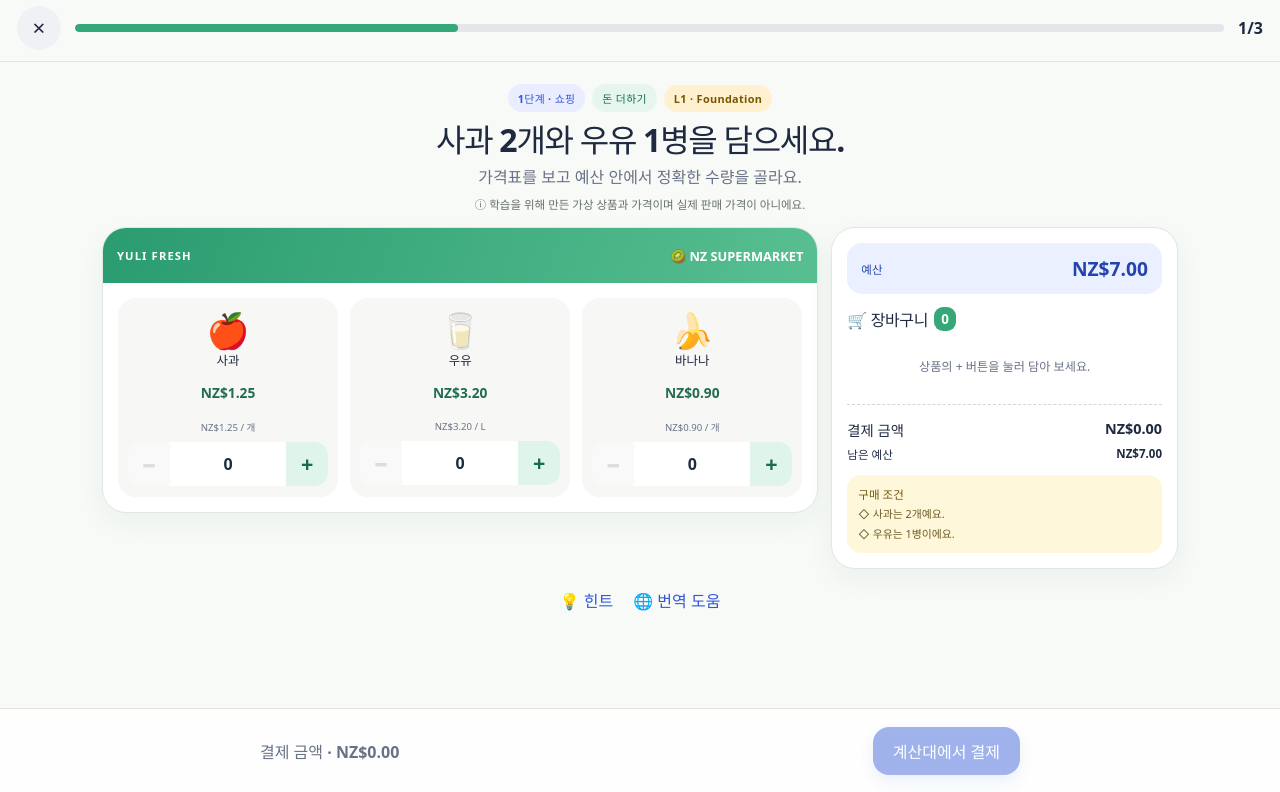
Test: ShoppingMission › marks only post-error guided attempts as supported
This screenshot has width=1280, height=792.
Click the button named "사과 추가": (307, 464) x1=286 y1=442 x2=328 y2=486
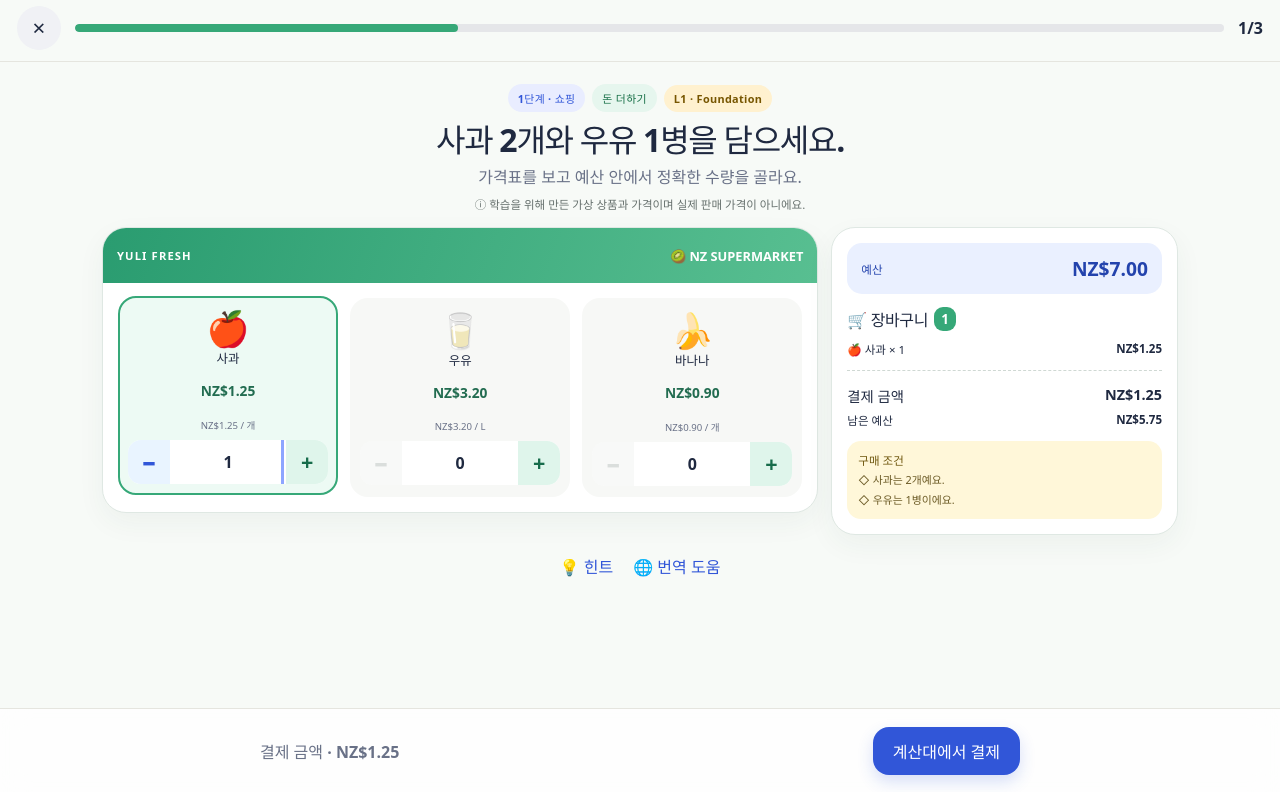
Click the button "계산대에서 결제": (946, 750) x1=873 y1=726 x2=1020 y2=774
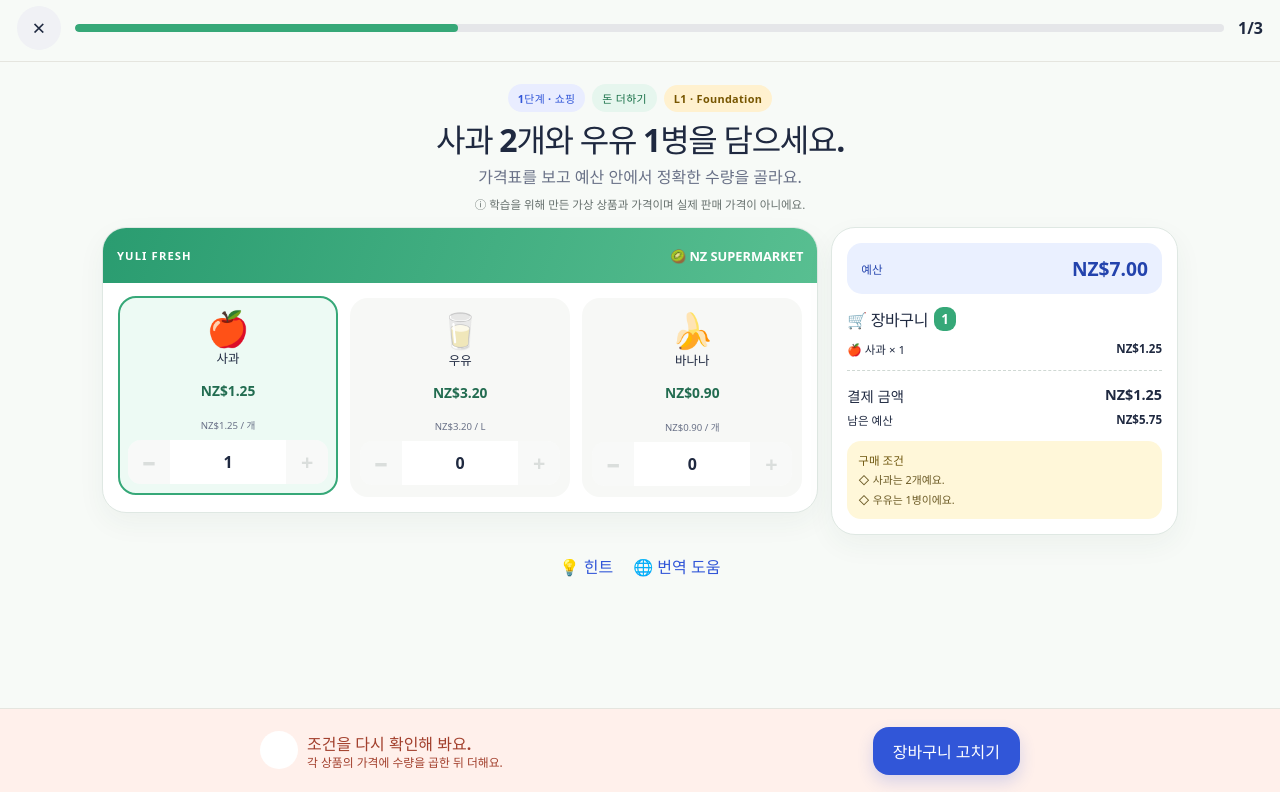
Click the button "장바구니 고치기": (946, 750) x1=873 y1=726 x2=1020 y2=774
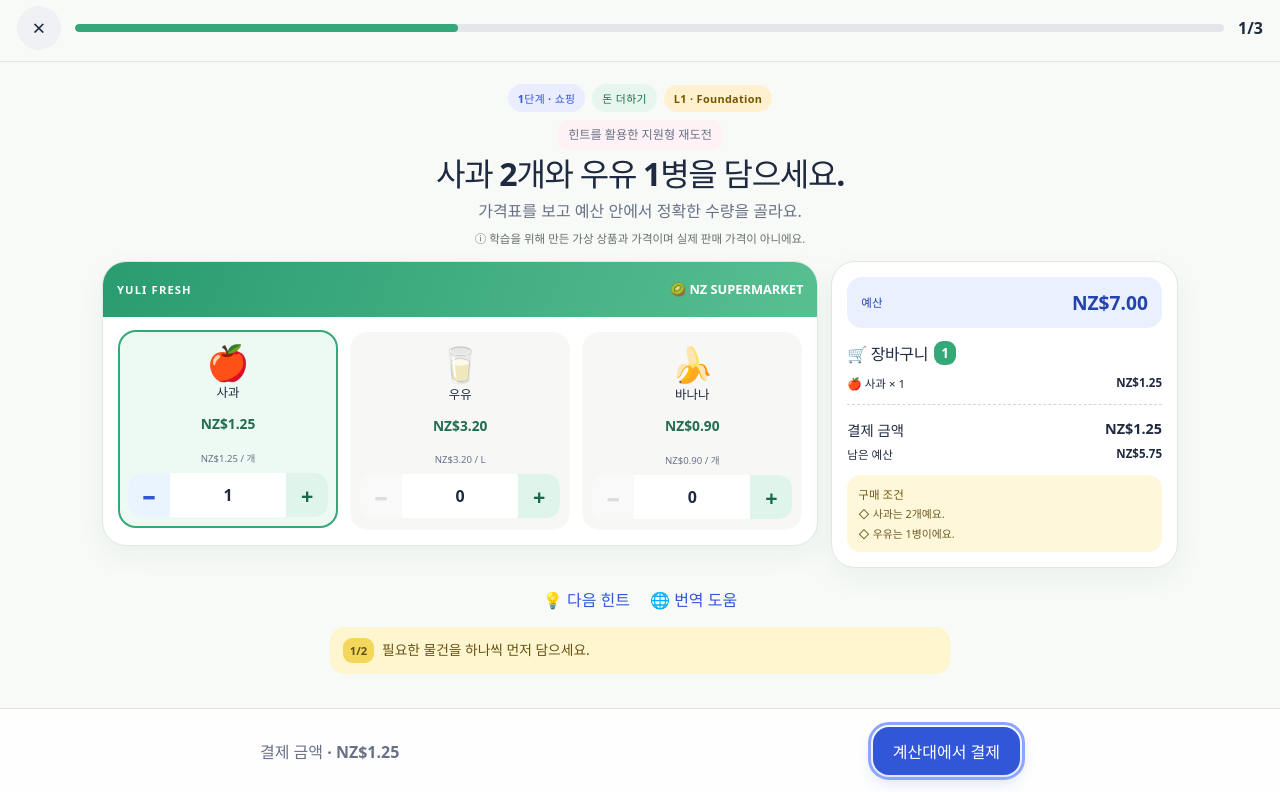
Expected: the text "힌트를 활용한 지원형 재도전" is shown, x1=558 y1=120 x2=722 y2=150
Click the button named "사과 추가": (307, 496) x1=286 y1=474 x2=328 y2=518
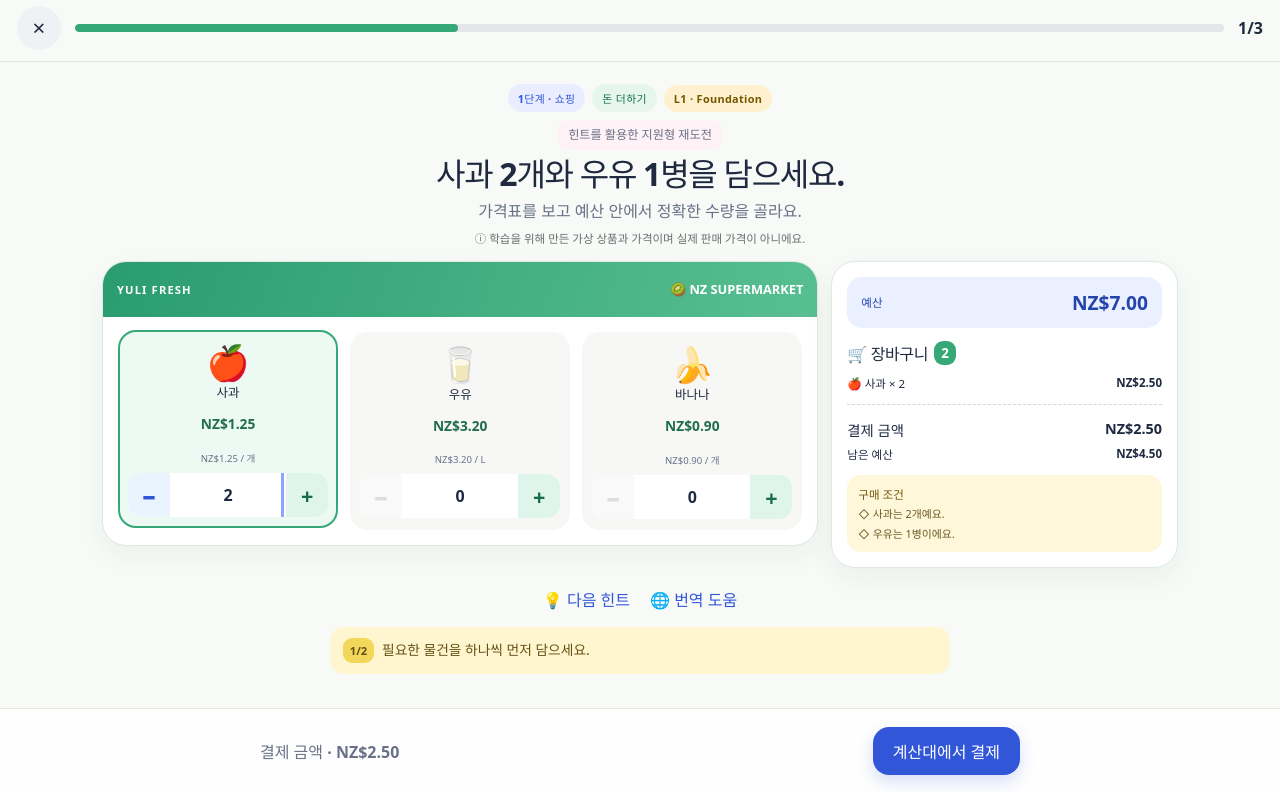
Click the button named "우유 추가": (539, 496) x1=518 y1=474 x2=560 y2=518
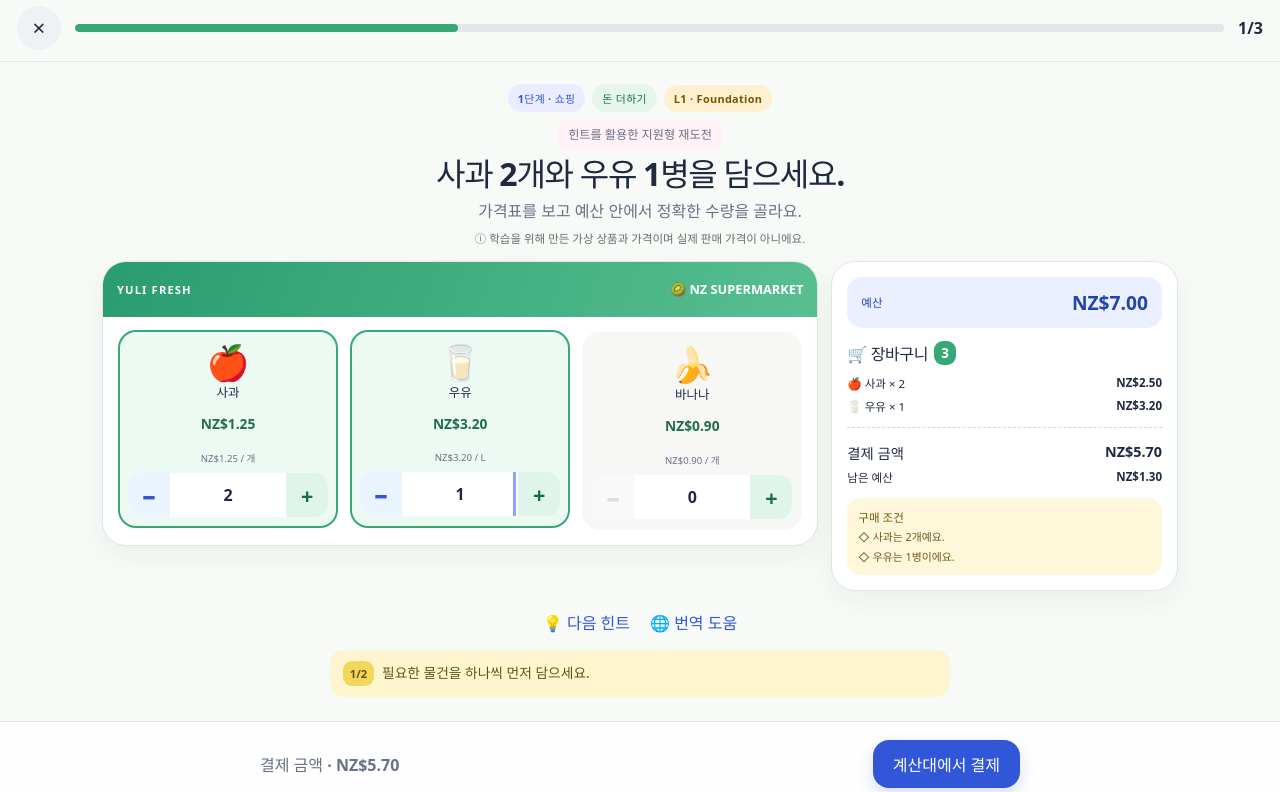
Click the button "계산대에서 결제": (946, 764) x1=873 y1=740 x2=1020 y2=788
(page scrolled)
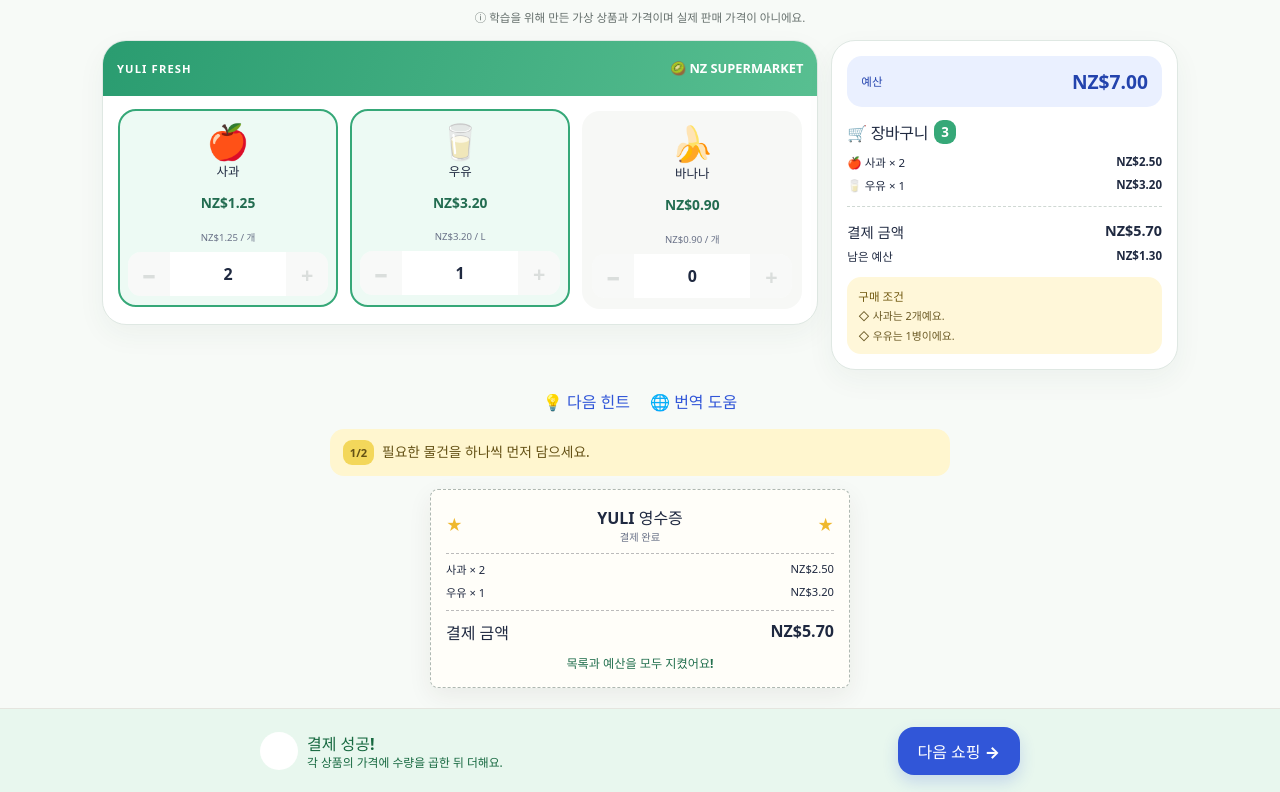
Expected: the text "결제 성공!" is shown, x1=307 y1=733 x2=375 y2=755
